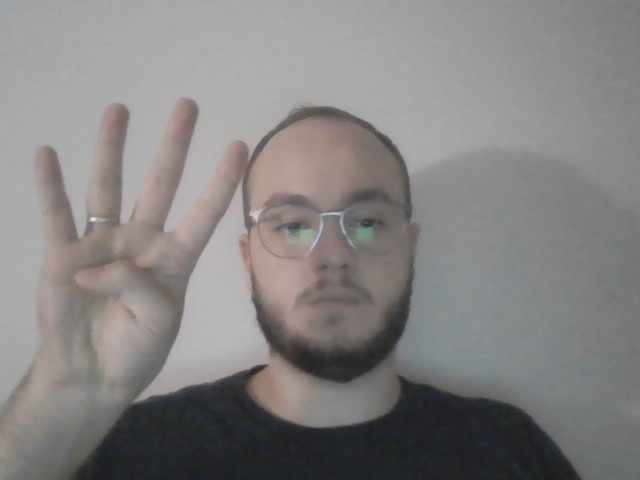Four: (24, 95, 250, 396)
